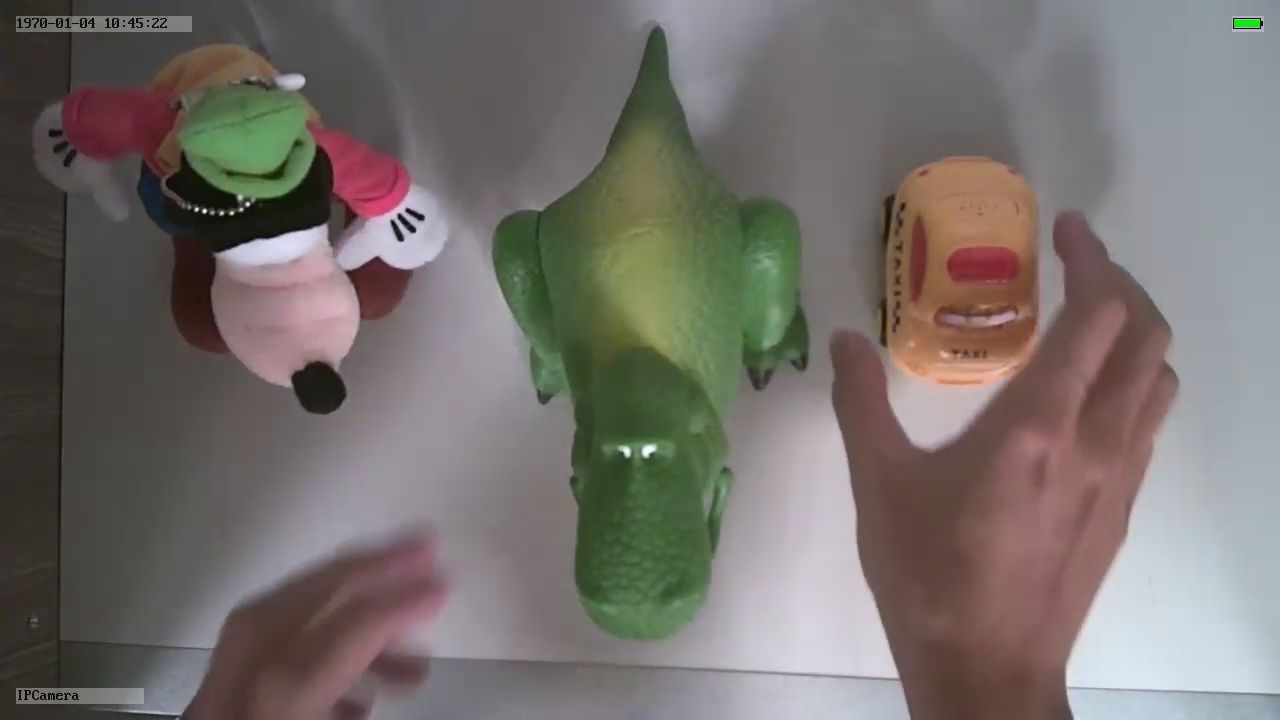goofy: (30, 41, 449, 419)
